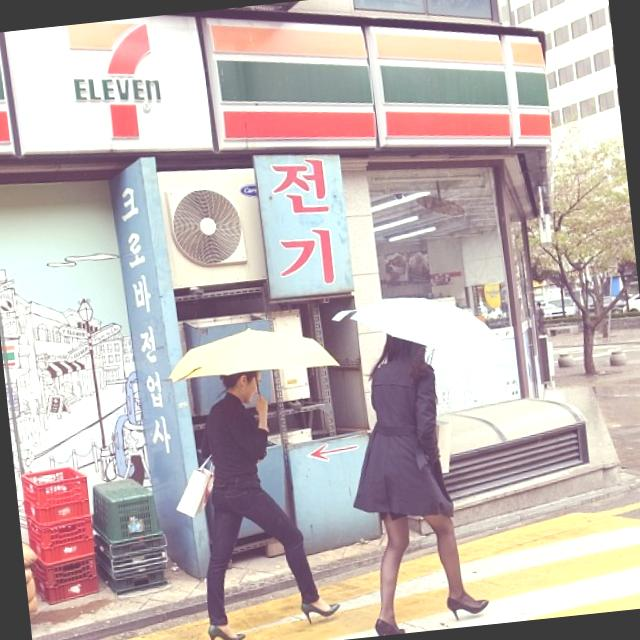Vehicle: (587, 294, 627, 318), (542, 296, 580, 320), (625, 286, 640, 314)
